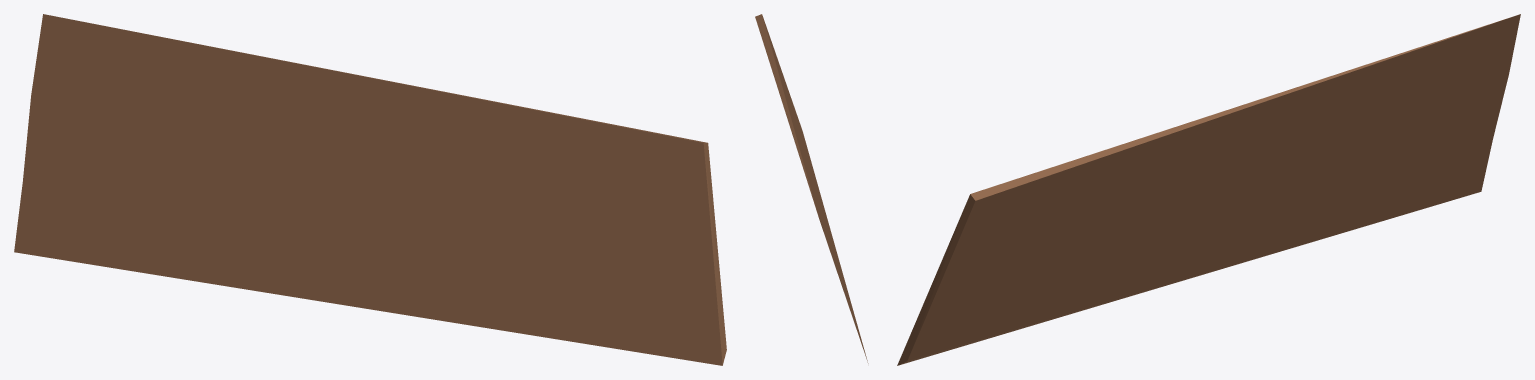
File: WoodCellCube_003_cell_052.fbx
3 views of the same model, side by side, from view 1: azimuth 30°, elevation 25°; view 2: azimuth 150°, elevation 25°; view 3: azimuth 270°, elevation 25° (orthographic). The views are drawn at different scales.
Visible parts, largest first — view 1: WoodCellCube_003_cell_052; view 2: WoodCellCube_003_cell_052; view 3: WoodCellCube_003_cell_052.
Boxes of the visible parts, x1,y1,x2,y2 form: WoodCellCube_003_cell_052: (14,14,726,365); WoodCellCube_003_cell_052: (755,14,868,363); WoodCellCube_003_cell_052: (897,14,1520,365).
Size of the model in its own units: 0.4742 by 0.1684 by 0.3579.
Materials: 1 (1 with a texture image).
